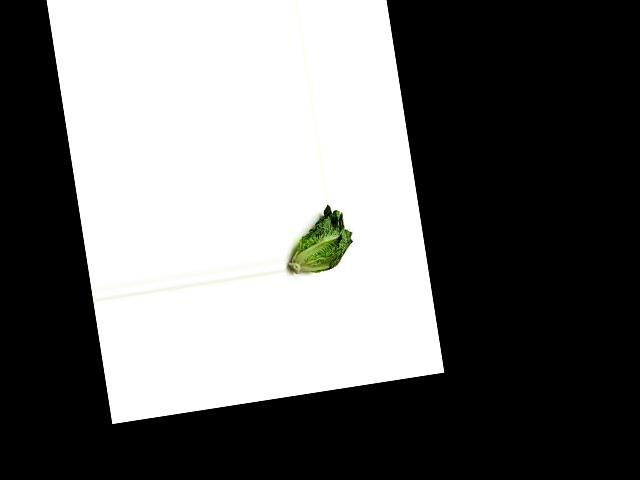lettuce: (282, 202, 360, 278)
